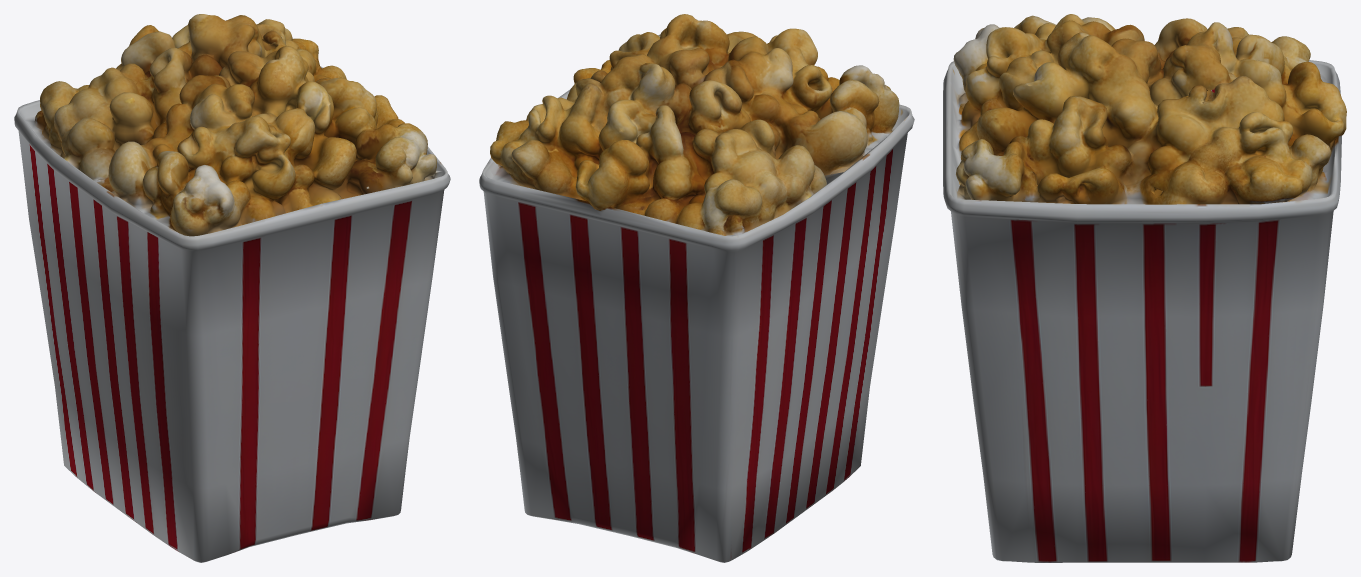
Rendered from popcorn_bucket.glb.
The picture shows the model from 3 angles, left to right: view 1: azimuth 30°, elevation 25°; view 2: azimuth 150°, elevation 25°; view 3: azimuth 270°, elevation 25°; orthographic projection. The views are drawn at different scales.
Parts seen in each view (by area): view 1: mesh_rep_0_ori_repair_0; view 2: mesh_rep_0_ori_repair_0; view 3: mesh_rep_0_ori_repair_0.
Boxes of the visible parts, <box> form: mesh_rep_0_ori_repair_0: <box>14,14,450,562</box>; mesh_rep_0_ori_repair_0: <box>479,14,914,562</box>; mesh_rep_0_ori_repair_0: <box>943,14,1346,562</box>.
Size of the model in its own units: 0.2047 by 0.2943 by 0.2201.
Materials: 1 (1 with a texture image).
